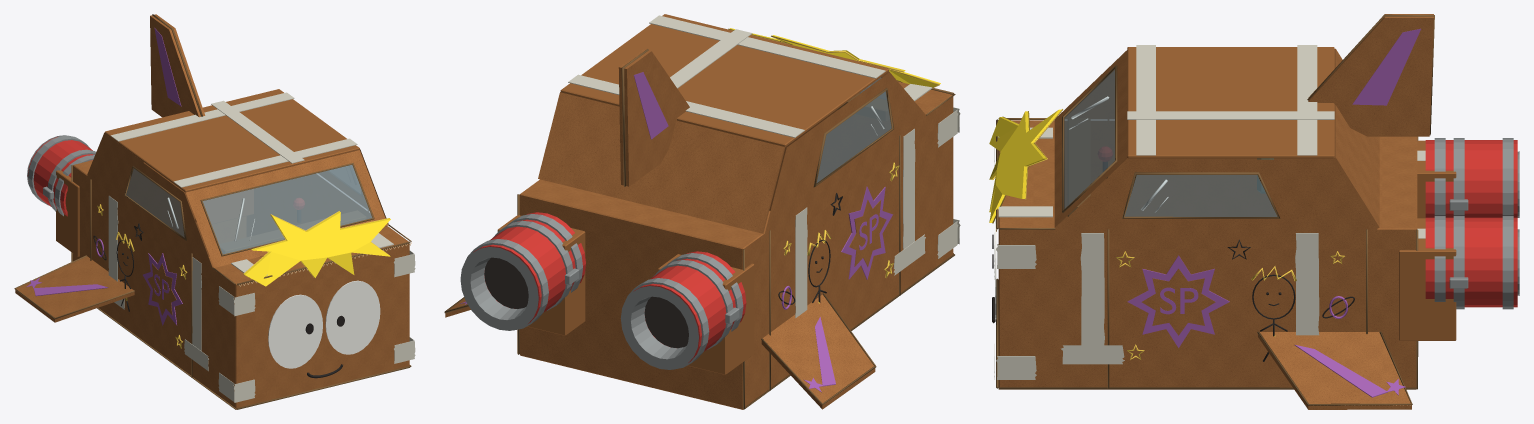
File: southpark_butters_ship.glb
3 views of the same model, side by side, from view 1: azimuth 30°, elevation 25°; view 2: azimuth 150°, elevation 25°; view 3: azimuth 270°, elevation 25° (orthographic). The views are drawn at different scales.
Visible parts, largest first — view 1: Butters_Kraft_cardboard, Butters_Transparent_smoky_plastic, Butters_Ivory_cloth_tape, Butters_Paper_white_eyes, Butters_Butters_sunshine_hair, Butters_Exposed_corrugation_dark, Butters_Purple_marker, Butters_Recycled_red_cans, Butters_Dull_recycled_collars, Butters_Charcoal_felt_tip, Butters_Yellow_crayon; view 2: Butters_Kraft_cardboard, Butters_Dull_recycled_collars, Butters_Ivory_cloth_tape, Butters_Recycled_red_cans, Butters_Exposed_corrugation_dark, Butters_Purple_marker, Butters_Nozzle_soot, Butters_Transparent_smoky_plastic, Butters_Yellow_crayon, Butters_Butters_sunshine_hair, Butters_Charcoal_felt_tip; view 3: Butters_Kraft_cardboard, Butters_Ivory_cloth_tape, Butters_Transparent_smoky_plastic, Butters_Recycled_red_cans, Butters_Exposed_corrugation_dark, Butters_Dull_recycled_collars, Butters_Purple_marker, Butters_Butters_sunshine_hair, Butters_Charcoal_felt_tip, Butters_Yellow_crayon.
Boxes of the visible parts, bbox=[...] form: Butters_Kraft_cardboard: bbox=[15, 14, 409, 409]; Butters_Transparent_smoky_plastic: bbox=[126, 165, 372, 254]; Butters_Ivory_cloth_tape: bbox=[108, 92, 415, 402]; Butters_Paper_white_eyes: bbox=[268, 280, 380, 368]; Butters_Butters_sunshine_hair: bbox=[244, 211, 390, 286]; Butters_Exposed_corrugation_dark: bbox=[14, 14, 411, 409]; Butters_Purple_marker: bbox=[26, 28, 182, 325]; Butters_Recycled_red_cans: bbox=[27, 136, 304, 216]; Butters_Dull_recycled_collars: bbox=[27, 135, 96, 216]; Butters_Charcoal_felt_tip: bbox=[93, 210, 344, 378]; Butters_Yellow_crayon: bbox=[97, 204, 389, 348]; Butters_Kraft_cardboard: bbox=[445, 14, 953, 409]; Butters_Dull_recycled_collars: bbox=[460, 214, 743, 369]; Butters_Ivory_cloth_tape: bbox=[568, 15, 960, 318]; Butters_Recycled_red_cans: bbox=[473, 212, 746, 362]; Butters_Exposed_corrugation_dark: bbox=[444, 49, 955, 409]; Butters_Purple_marker: bbox=[460, 72, 892, 392]; Butters_Nozzle_soot: bbox=[484, 257, 688, 348]; Butters_Transparent_smoky_plastic: bbox=[816, 77, 891, 182]; Butters_Yellow_crayon: bbox=[728, 28, 939, 303]; Butters_Butters_sunshine_hair: bbox=[730, 28, 940, 87]; Butters_Charcoal_felt_tip: bbox=[778, 193, 842, 304]; Butters_Kraft_cardboard: bbox=[998, 14, 1456, 409]; Butters_Ivory_cloth_tape: bbox=[994, 45, 1425, 379]; Butters_Transparent_smoky_plastic: bbox=[1064, 69, 1277, 216]; Butters_Recycled_red_cans: bbox=[1098, 140, 1517, 307]; Butters_Exposed_corrugation_dark: bbox=[996, 14, 1434, 405]; Butters_Dull_recycled_collars: bbox=[1434, 138, 1519, 309]; Butters_Purple_marker: bbox=[1127, 28, 1420, 397]; Butters_Butters_sunshine_hair: bbox=[989, 109, 1061, 222]; Butters_Charcoal_felt_tip: bbox=[992, 162, 1354, 361]; Butters_Yellow_crayon: bbox=[992, 109, 1344, 359].
Size of the model in its own units: 4.18 by 3.38 by 5.07.
15 materials, 1 textured.
